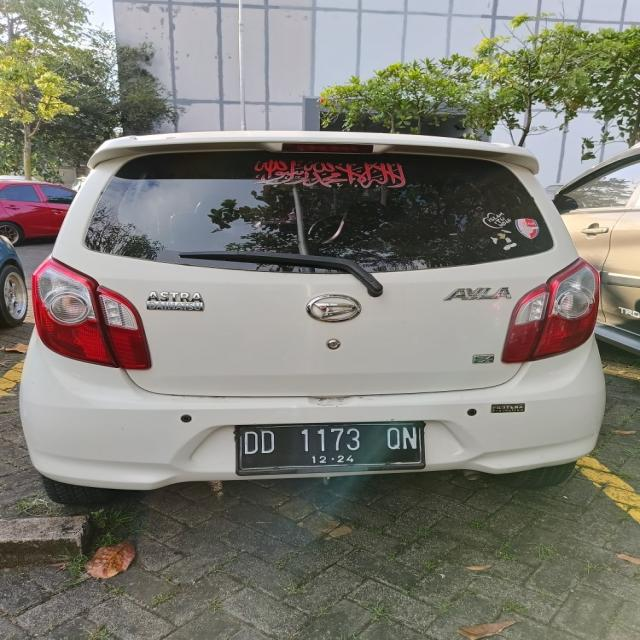plates: (226, 411, 435, 474)
